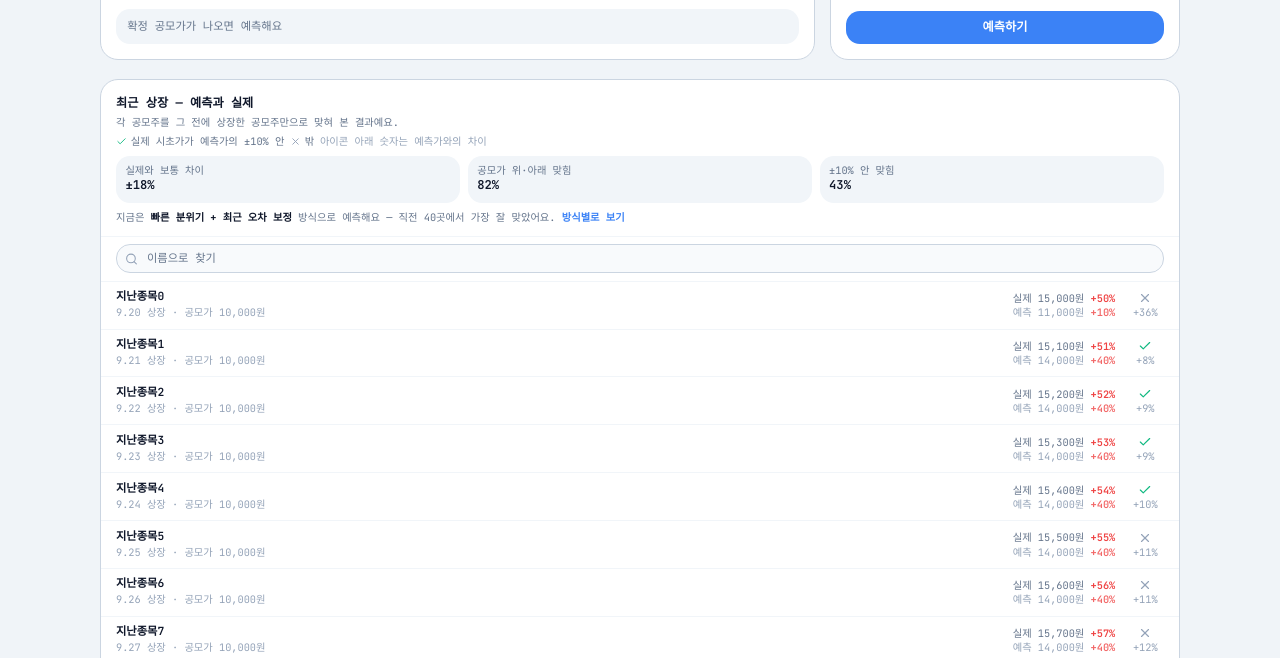
공모주 — 최근 상장 › 이름으로 찾는다 — 띄어쓰기 없이, '더 보기' 뒤에 있던 것까지
This screenshot has width=1280, height=658.
(page scrolled)
Type "종목 3" into the field named "최근 상장에서 이름으로 찾기" at (640, 259), box x1=116 y1=244 x2=1164 y2=273
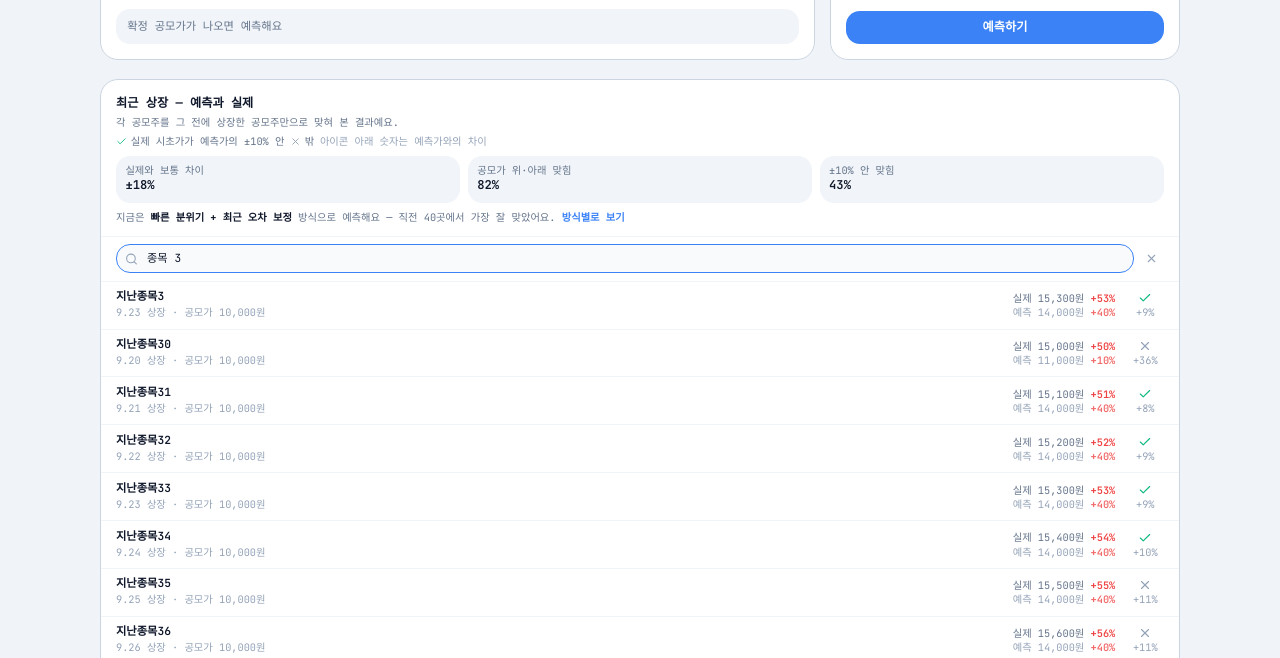
Expected: the button "곳 더 보기" is not shown
Clear the field named "최근 상장에서 이름으로 찾기" at (625, 259), box x1=116 y1=244 x2=1134 y2=273
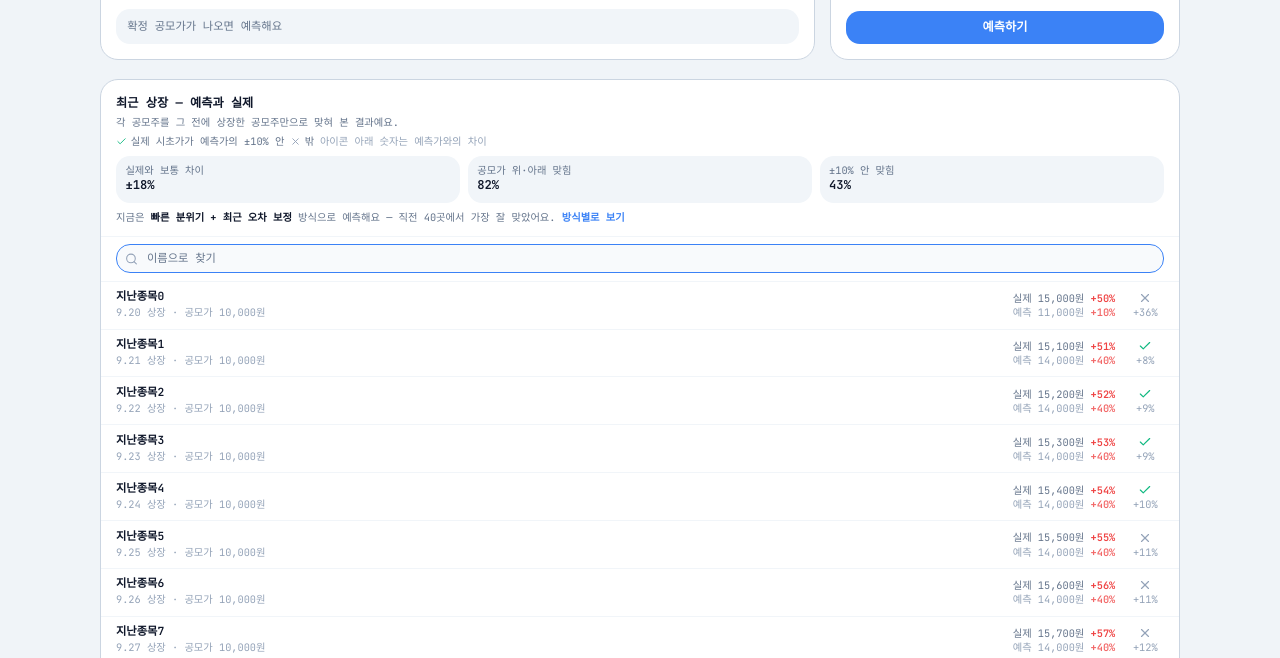
Type "없는이름" into the field named "최근 상장에서 이름으로 찾기" at (640, 259), box x1=116 y1=244 x2=1164 y2=273
(page scrolled)
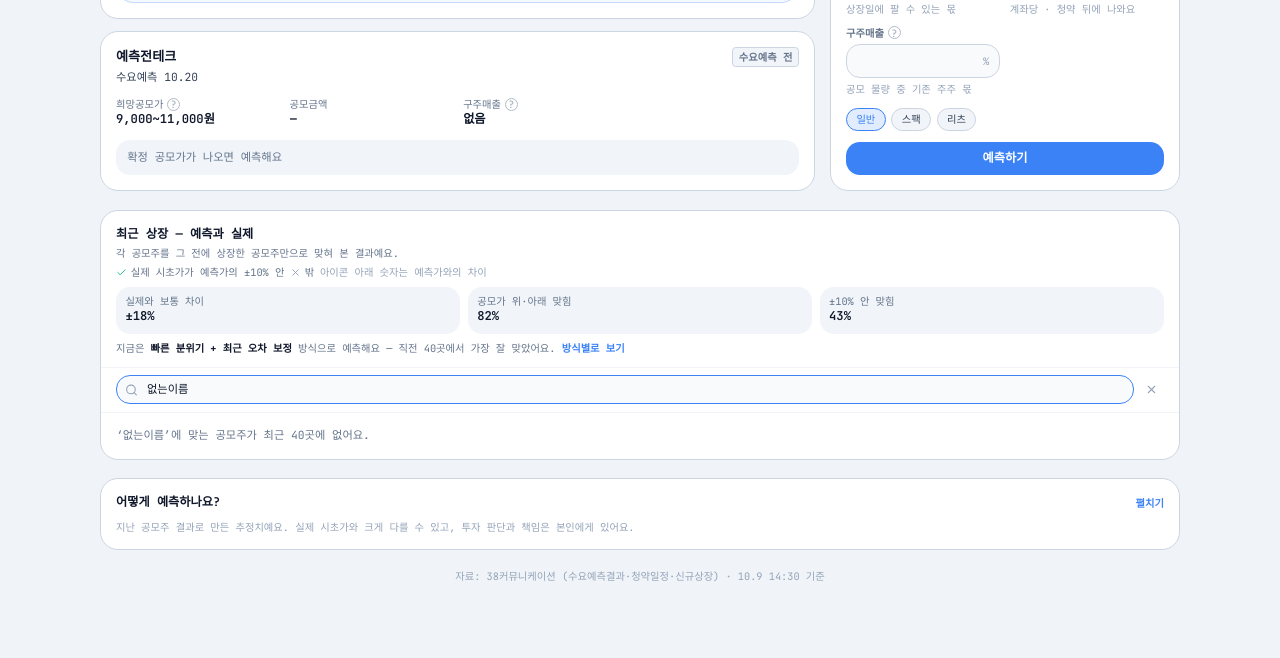
Result: the text "‘없는이름’에 맞는 공모주가 최근 40곳에 없어요." is shown at x1=116 y1=428 x2=370 y2=442
Click the button named "찾는 이름 지우기" at (1152, 390), box x1=1140 y1=378 x2=1164 y2=402
(page scrolled)
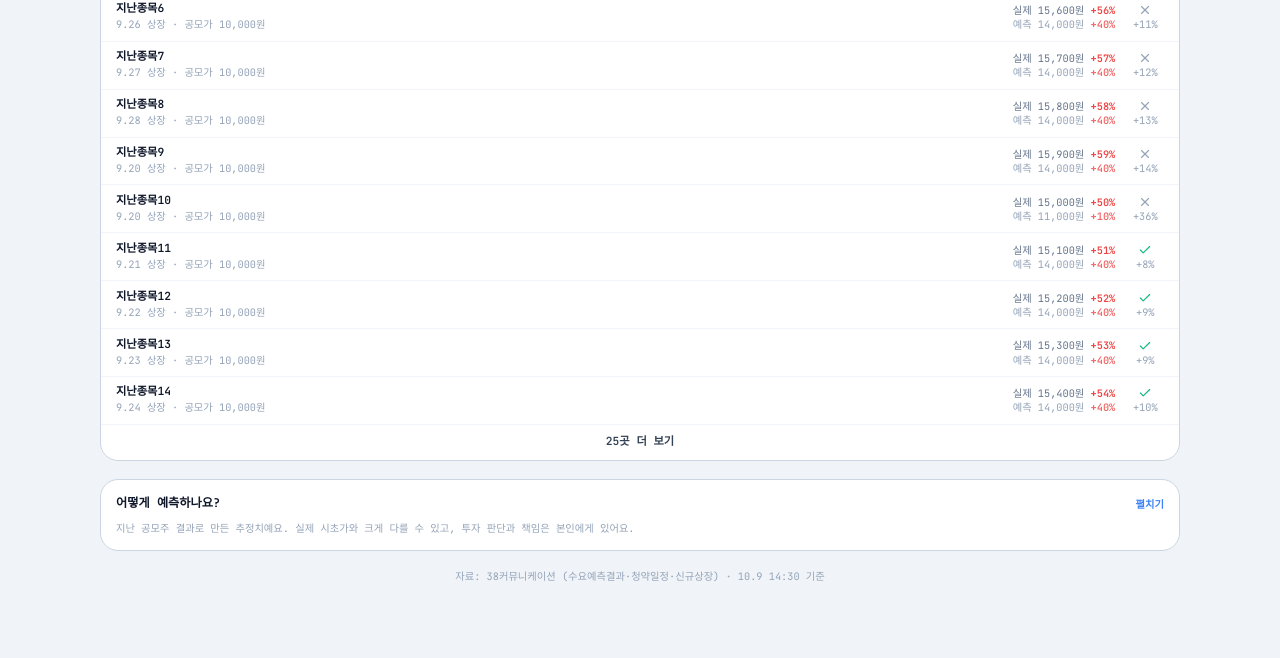
Result: the button "25곳 더 보기" is shown at x1=101 y1=424 x2=1179 y2=460
